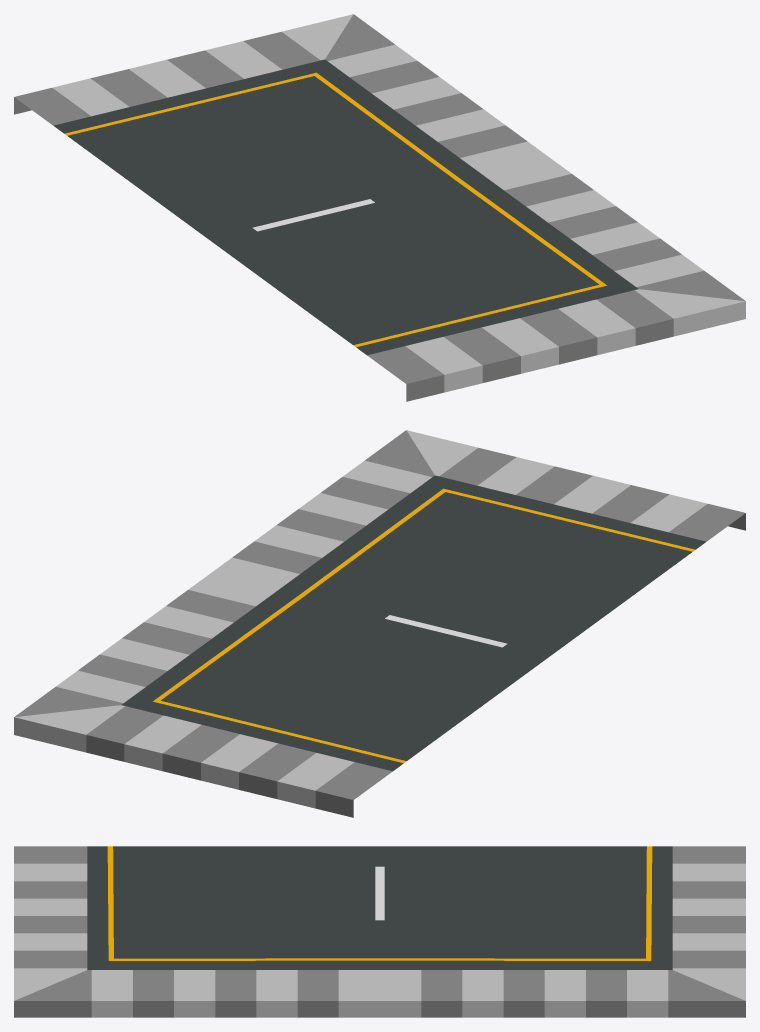
File: SM_Road_05.FBX
The picture shows the model from 3 angles, top to bottom: view 1: azimuth 30°, elevation 25°; view 2: azimuth 150°, elevation 25°; view 3: azimuth 270°, elevation 25°; orthographic projection. The views are drawn at different scales.
Parts seen in each view (by area): view 1: SM_Road_05; view 2: SM_Road_05; view 3: SM_Road_05.
Part boxes in pixels (x1,y1,x2,y2): SM_Road_05: (14, 14, 745, 401); SM_Road_05: (14, 430, 745, 817); SM_Road_05: (14, 846, 745, 1017).
Size of what is drawn, in the model's own units: 500 by 1000 by 25.
